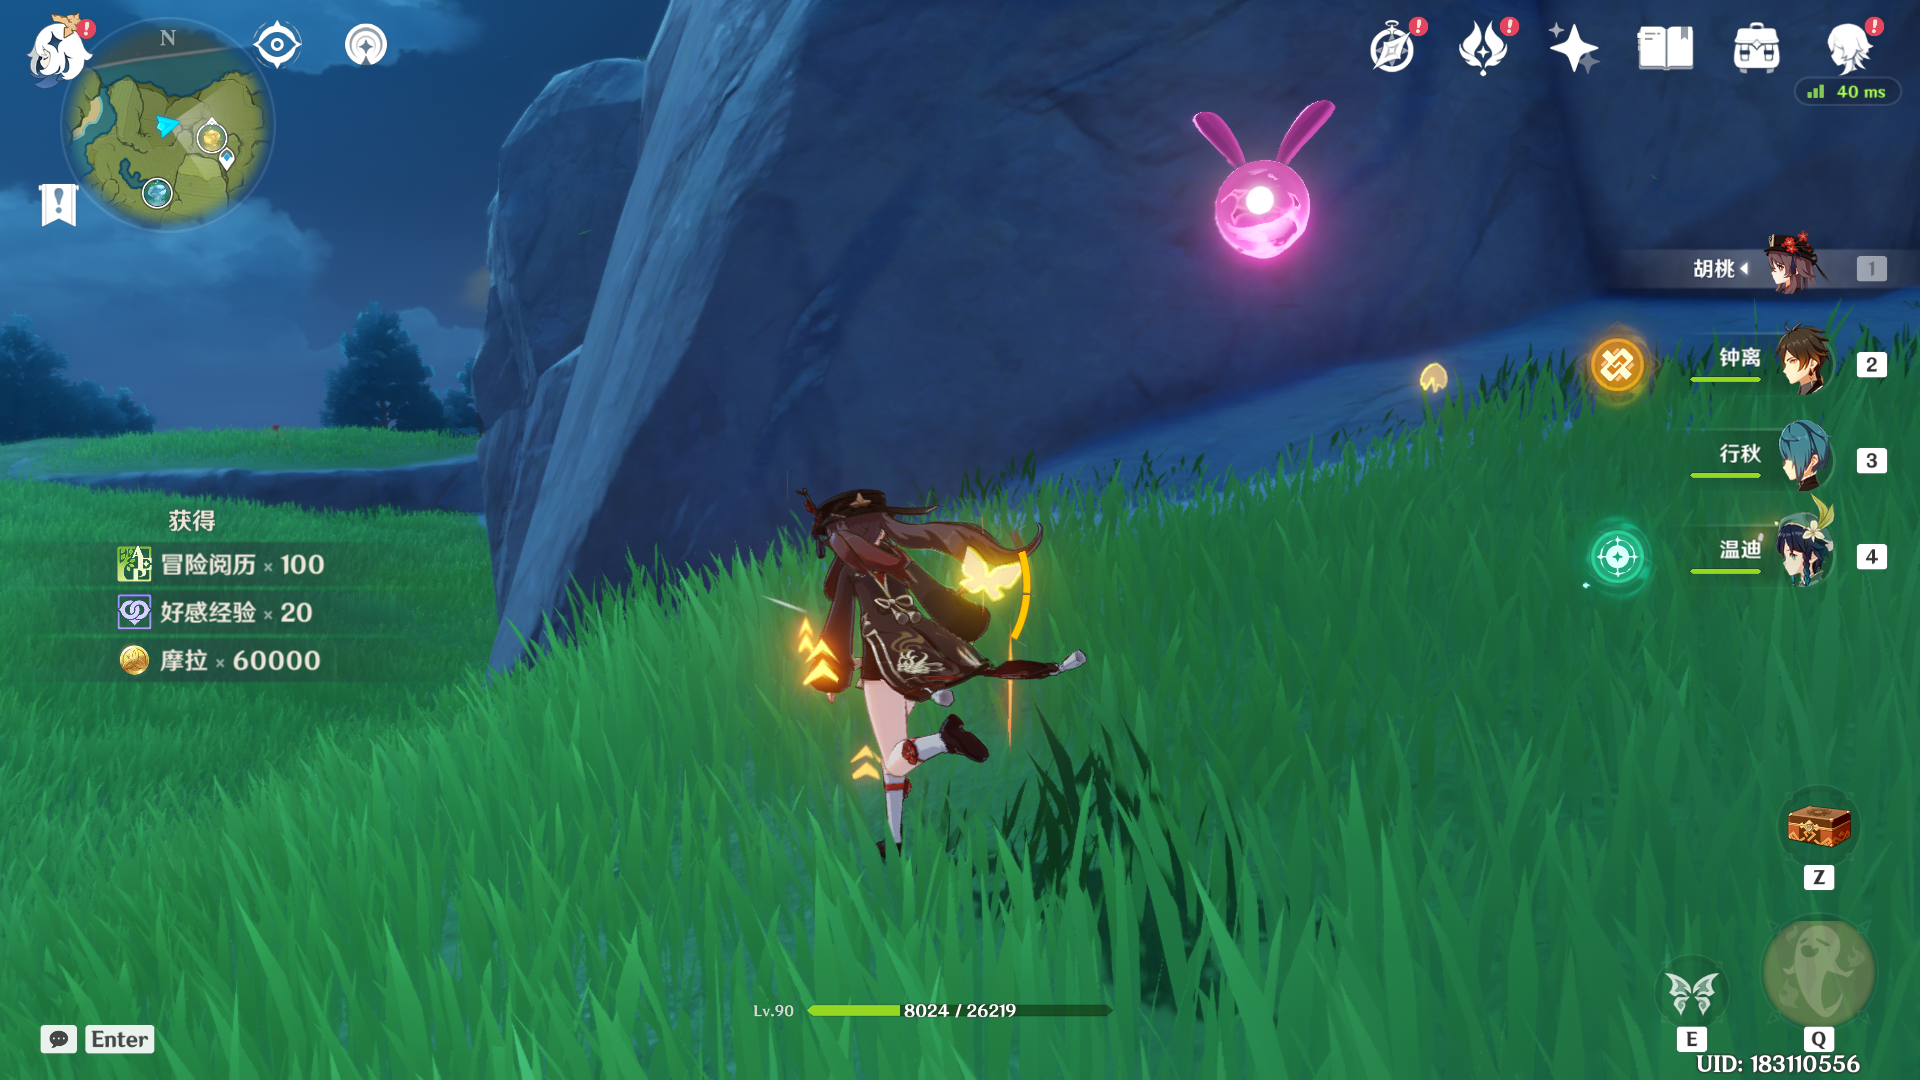character: (741, 427, 1062, 891)
